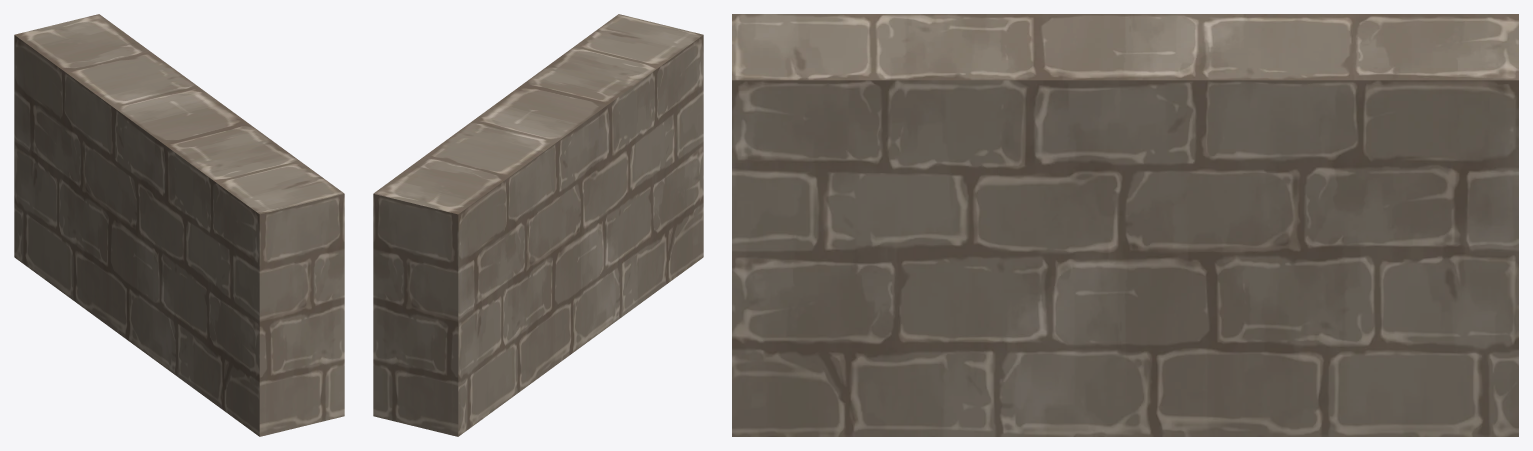
The model's file is stairs-exterior-singlesidethick.glb.
3 views of the same model, side by side, from view 1: azimuth 30°, elevation 25°; view 2: azimuth 150°, elevation 25°; view 3: azimuth 270°, elevation 25° (orthographic). The views are drawn at different scales.
Visible parts, largest first — view 1: Stairs_Exterior_SingleSideThick; view 2: Stairs_Exterior_SingleSideThick; view 3: Stairs_Exterior_SingleSideThick.
Part boxes in pixels (x1,y1,x2,y2): Stairs_Exterior_SingleSideThick: (14,14,344,436); Stairs_Exterior_SingleSideThick: (373,14,703,436); Stairs_Exterior_SingleSideThick: (732,14,1518,436).
Size of the model in its own units: 0.4 by 1 by 2.
1 material, 1 textured.
